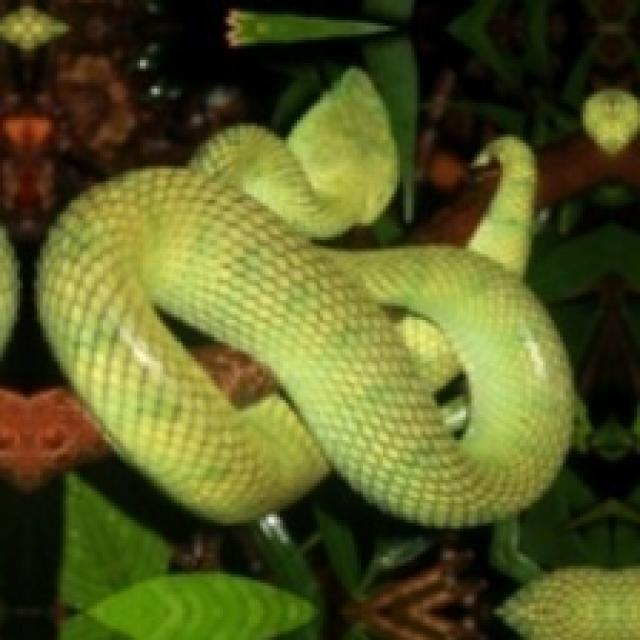north ph temple pitviper: (37, 69, 574, 523)
